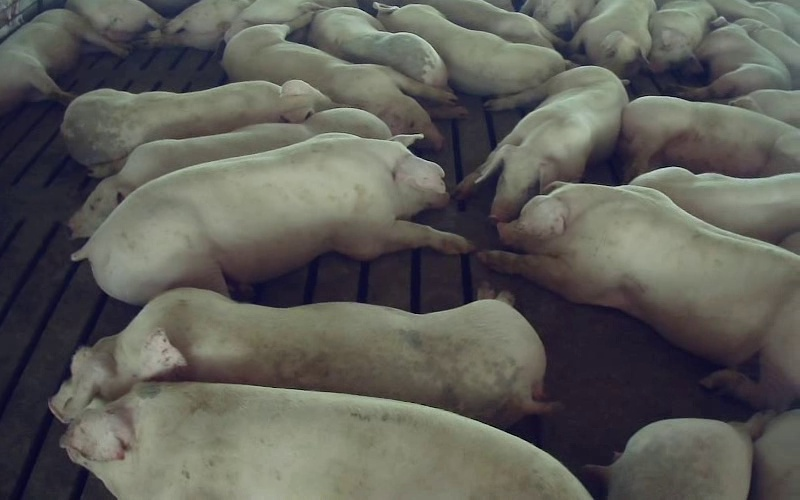pig: (481, 184, 799, 408), (49, 285, 552, 426), (72, 133, 472, 304), (62, 382, 590, 499), (69, 108, 390, 237), (222, 13, 465, 149), (456, 67, 628, 221), (61, 80, 334, 165), (374, 3, 565, 95), (583, 413, 774, 499), (617, 96, 799, 182), (0, 9, 127, 114), (630, 167, 799, 243), (308, 7, 447, 87), (678, 17, 791, 99), (408, 0, 561, 48), (569, 0, 655, 77), (648, 0, 716, 72), (735, 18, 799, 89), (65, 0, 164, 42)
